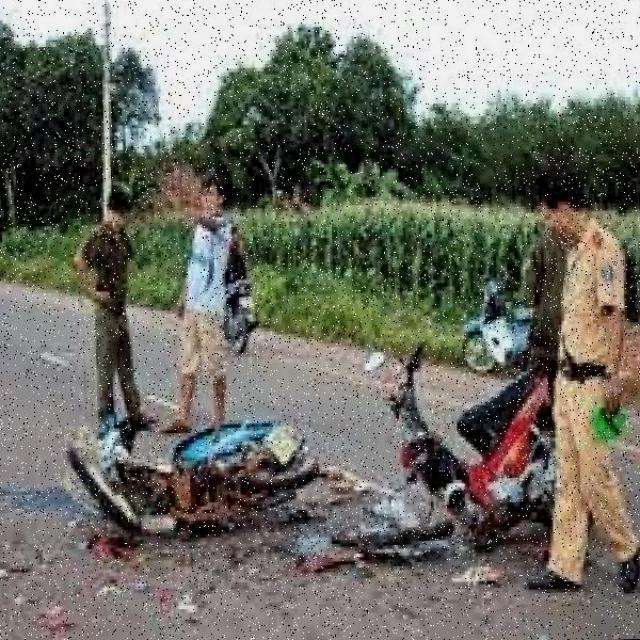accident: (36, 347, 601, 599)
